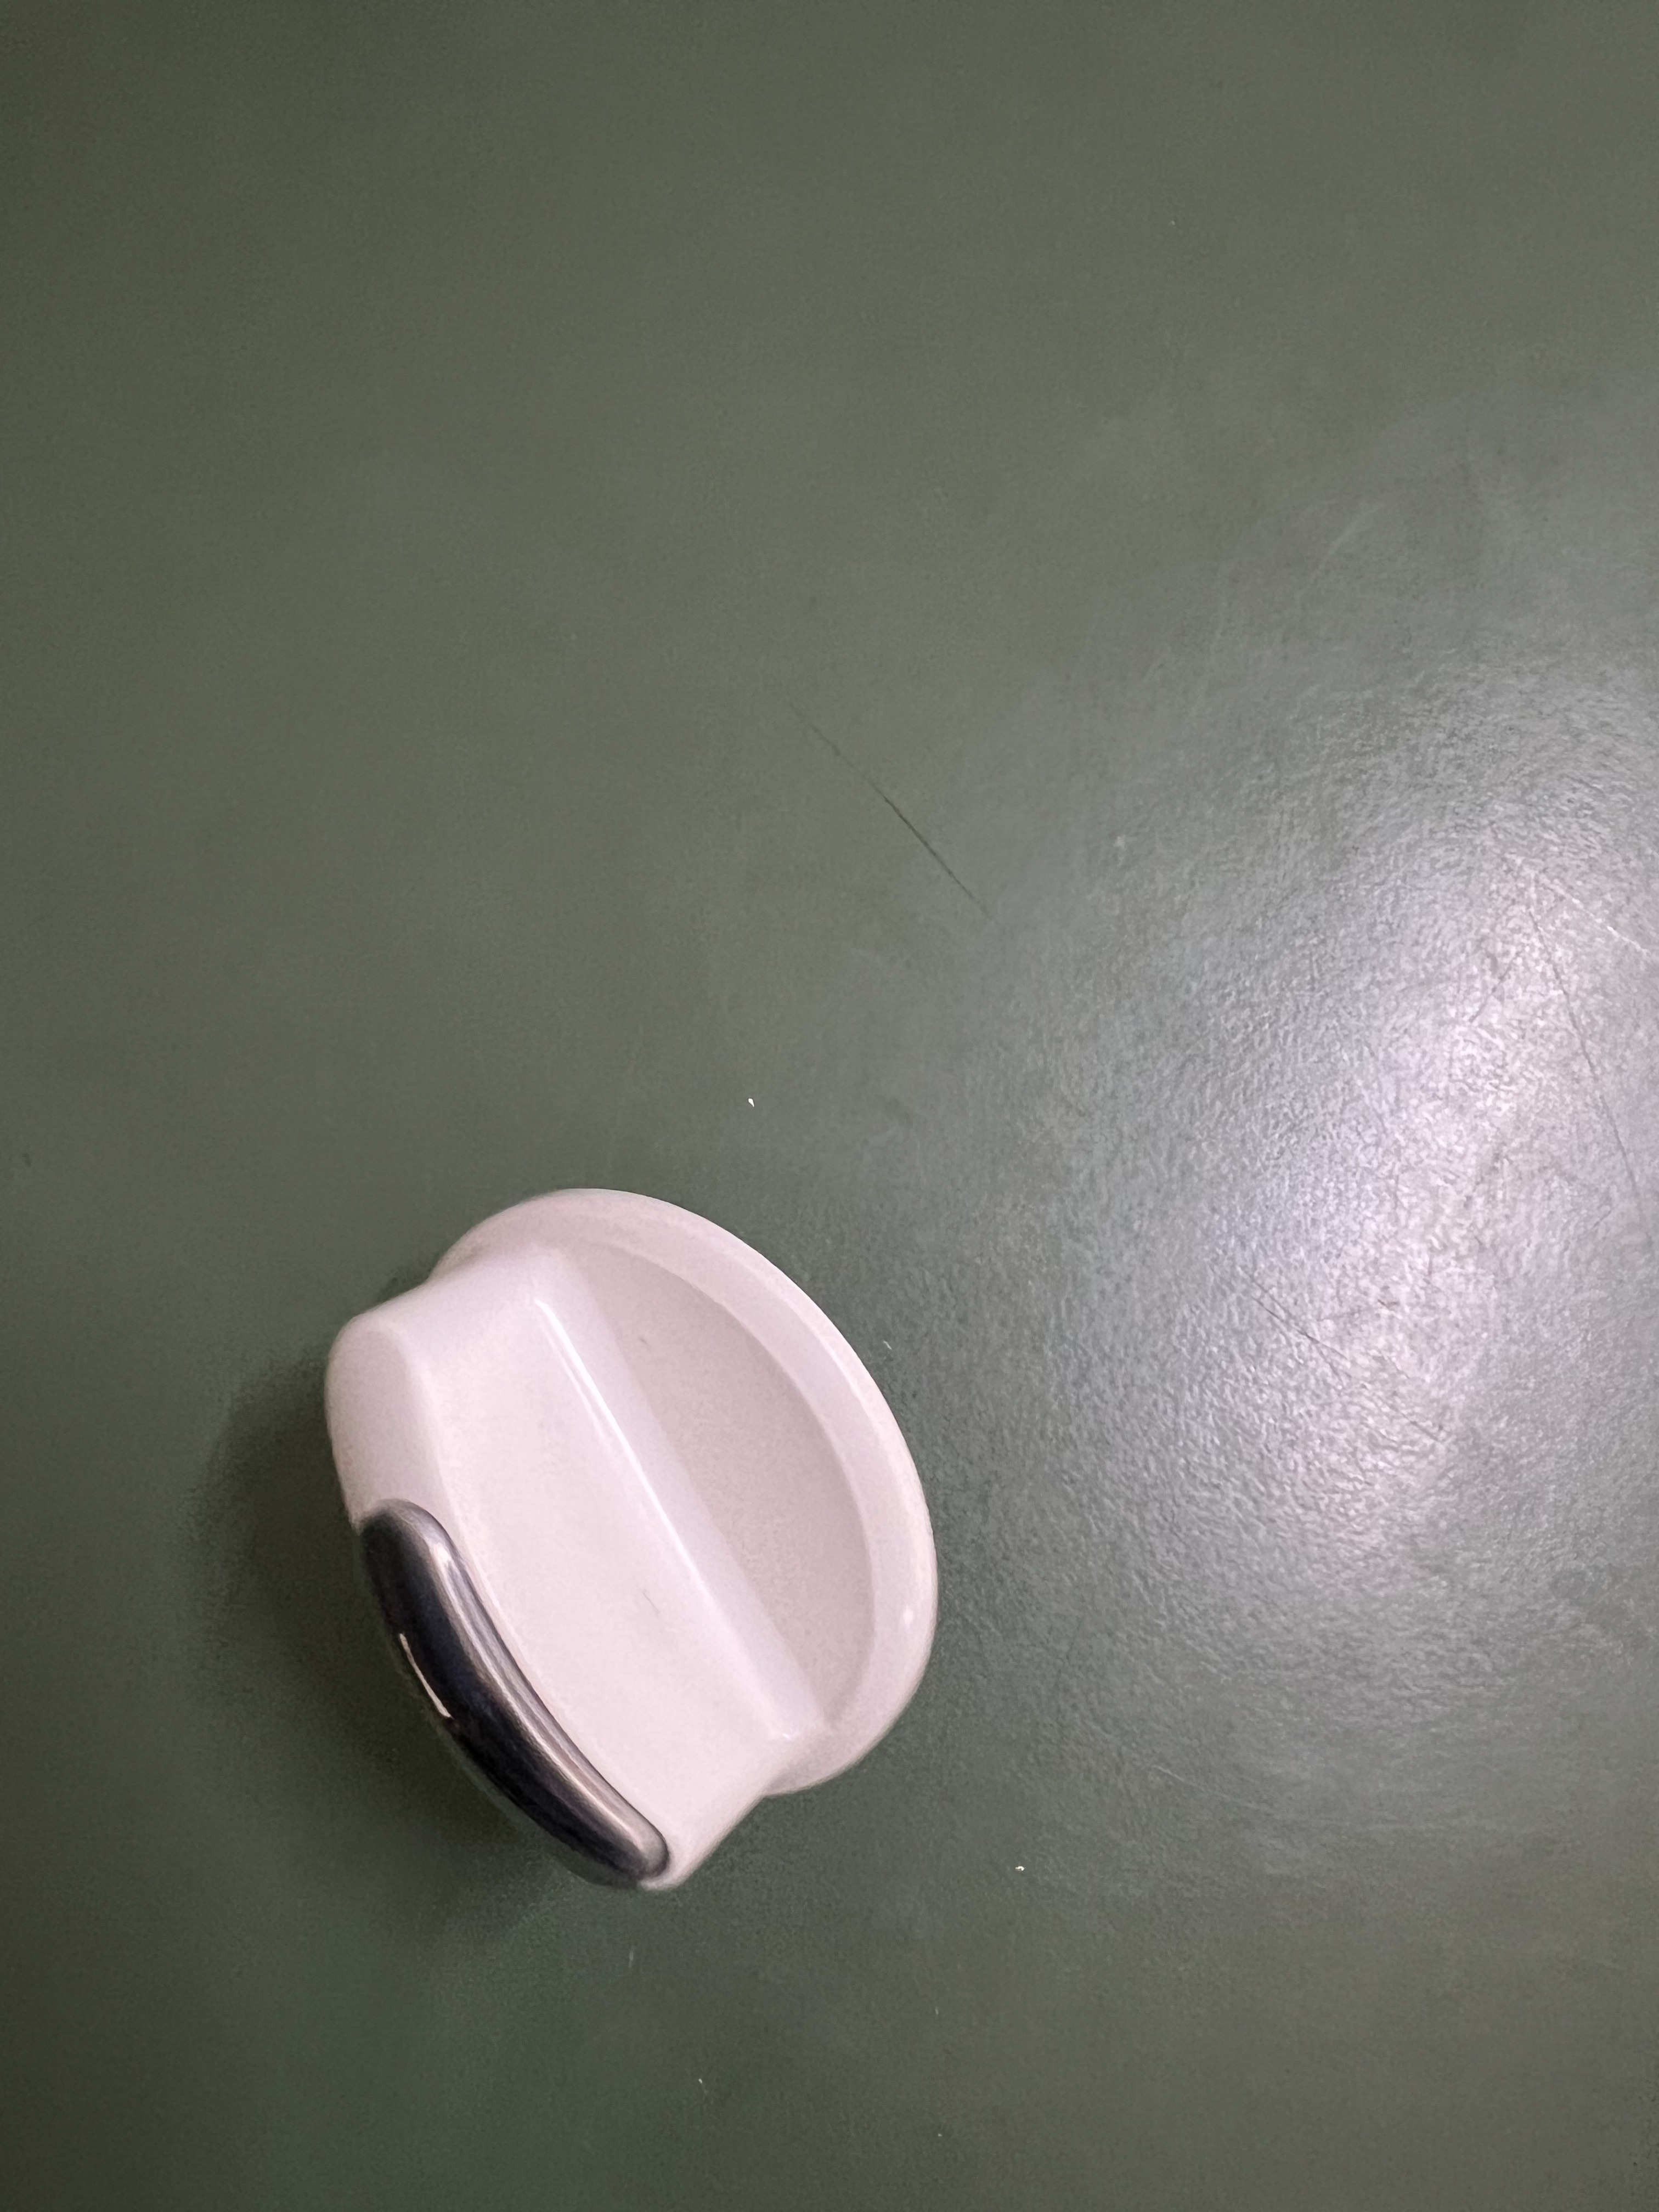regulator: (298, 1162, 957, 1911)
